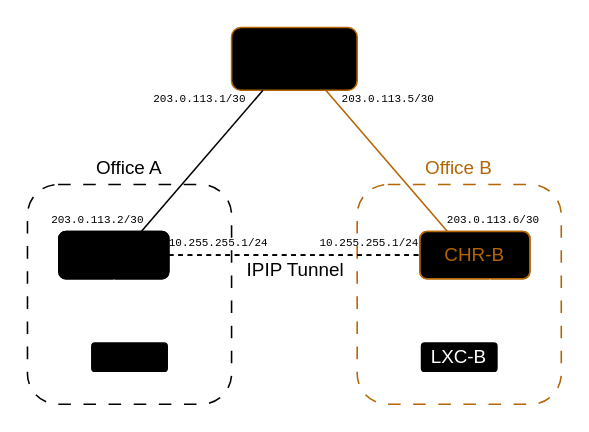
Image size: 589x432. Some labels were removed from this diagram. The shapes that lost their labels are listed below. From the top down, each one's centre as x and y in pixels, then its label:
At [293,58]: "CHR Internet".
At [129,356]: "LXC-A".
